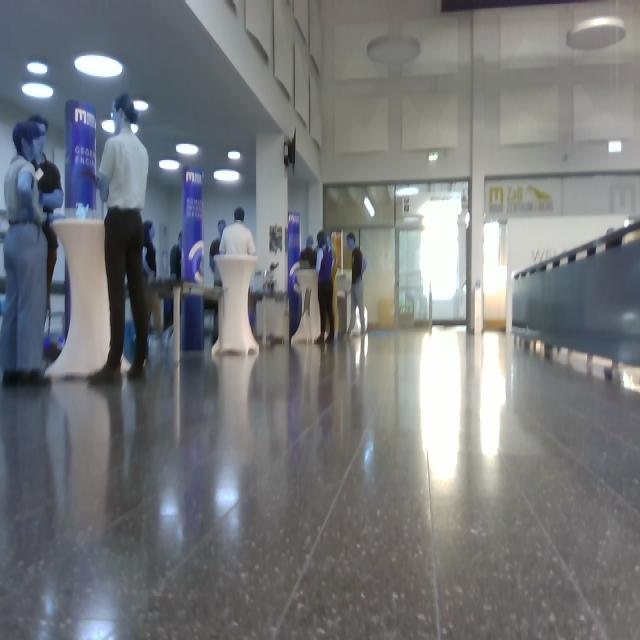door: (395, 181, 469, 329)
light bulb: (567, 16, 626, 50), (367, 36, 421, 65), (75, 55, 123, 79), (22, 82, 54, 100), (214, 169, 240, 182), (27, 61, 48, 76), (176, 144, 198, 156), (159, 159, 180, 171), (364, 197, 376, 217), (101, 120, 116, 134), (133, 100, 149, 112), (608, 140, 622, 153), (228, 150, 241, 160), (131, 124, 139, 133)
person: (82, 93, 150, 384), (1, 121, 52, 388), (28, 115, 65, 319), (216, 206, 258, 341), (314, 230, 336, 344), (346, 233, 368, 336)
staircase: (510, 218, 639, 384)
tiled floor: (2, 323, 639, 639)
